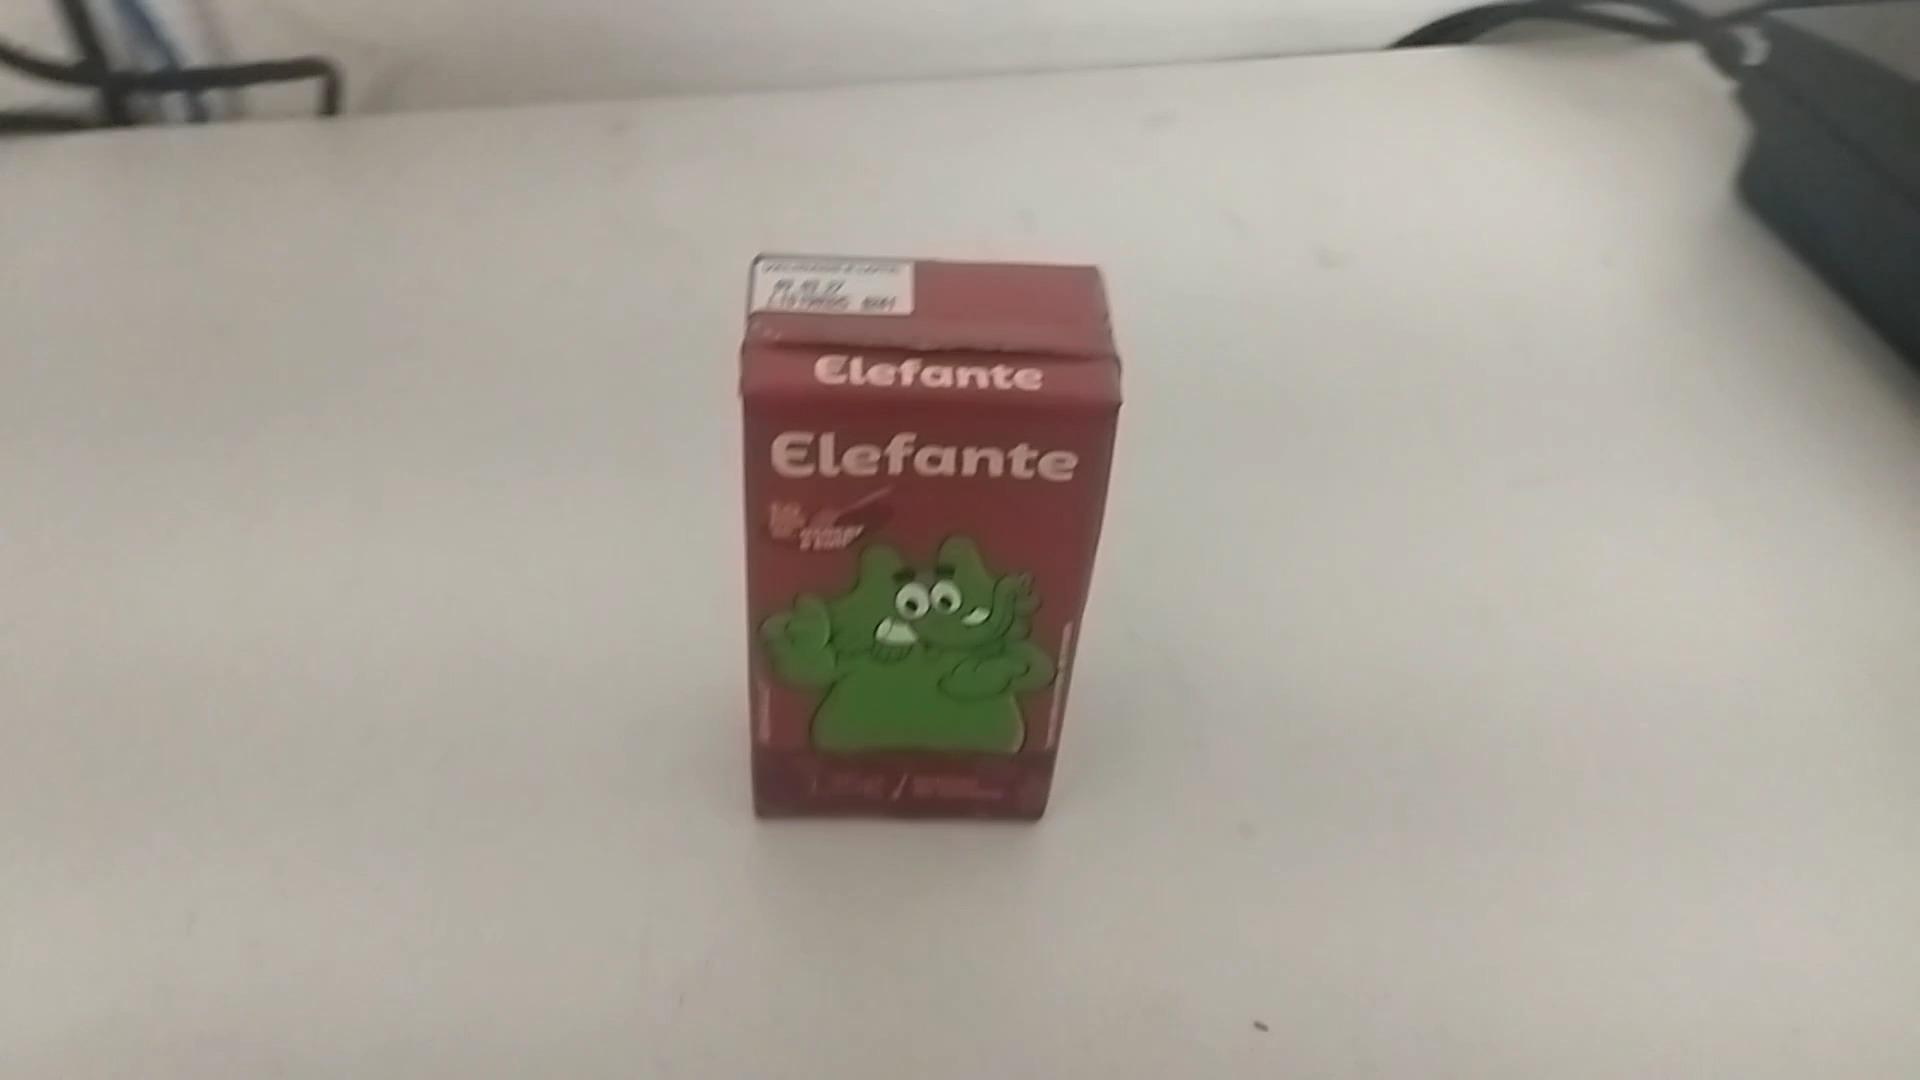tomate: (728, 237, 1138, 827)
